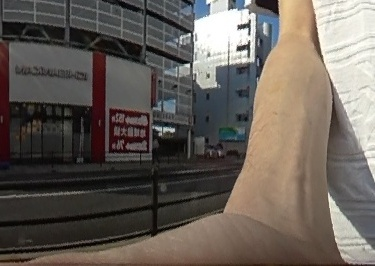person: (150, 135, 161, 164)
